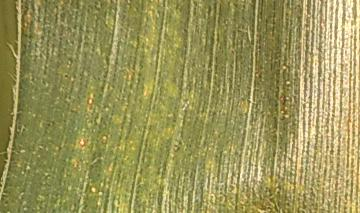tarspot: (61, 70, 71, 81)
